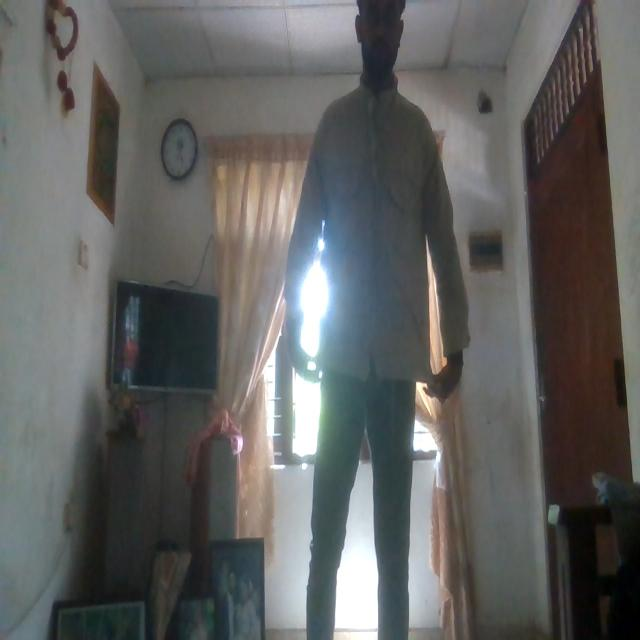Jacket_Wearer: (279, 81, 469, 403)
Person: (282, 0, 470, 640)
